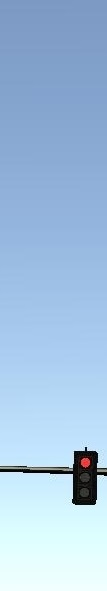Red: (72, 450, 97, 504)
